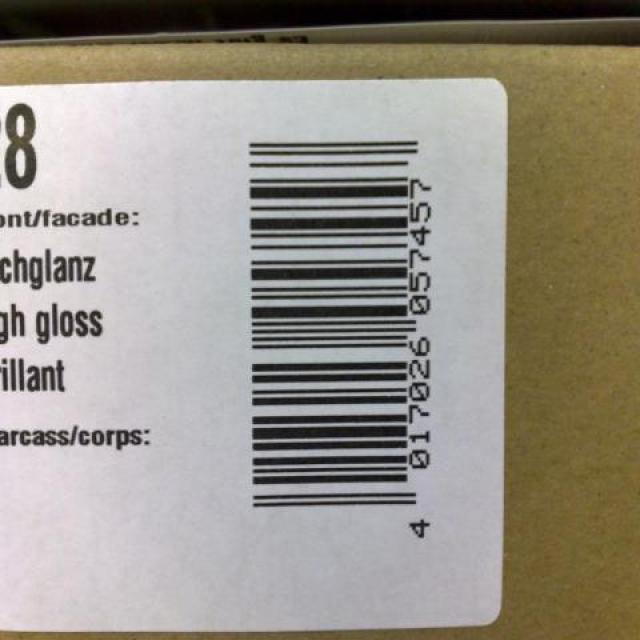Barcode: (239, 123, 446, 569)
